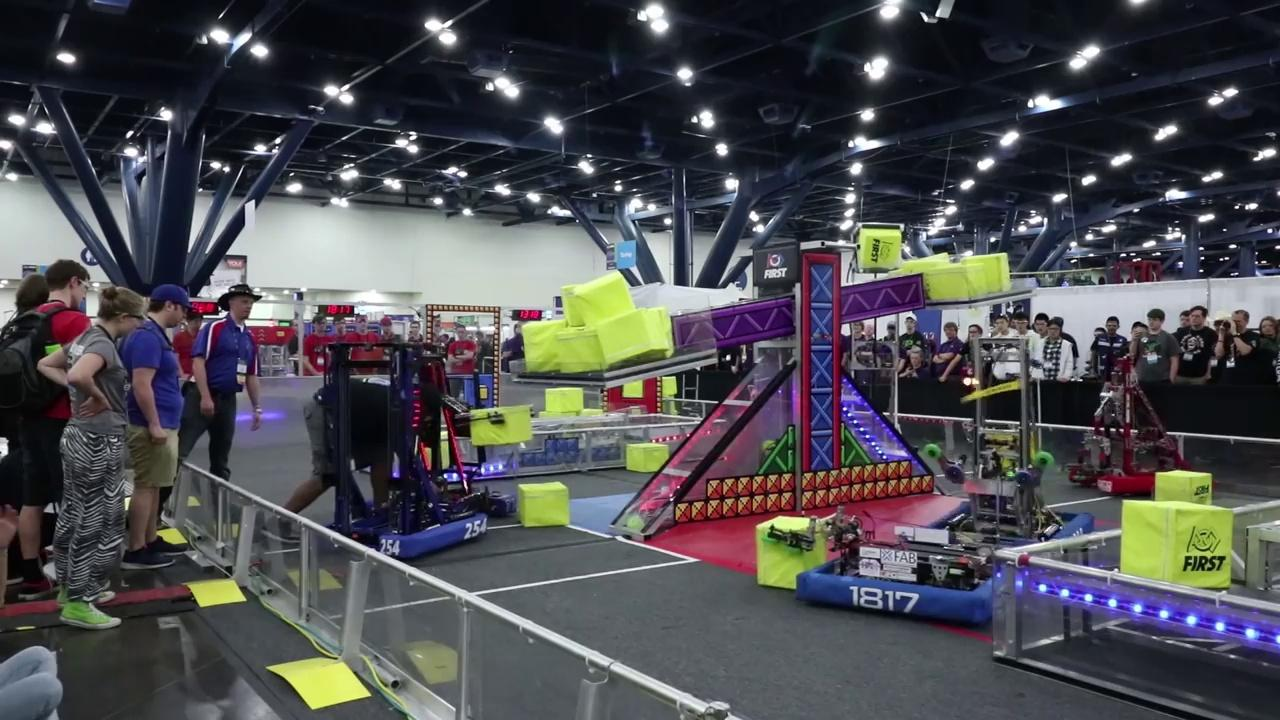robot: (328, 339, 496, 565), (927, 335, 1098, 552), (789, 507, 1021, 627), (1071, 418, 1190, 492)
